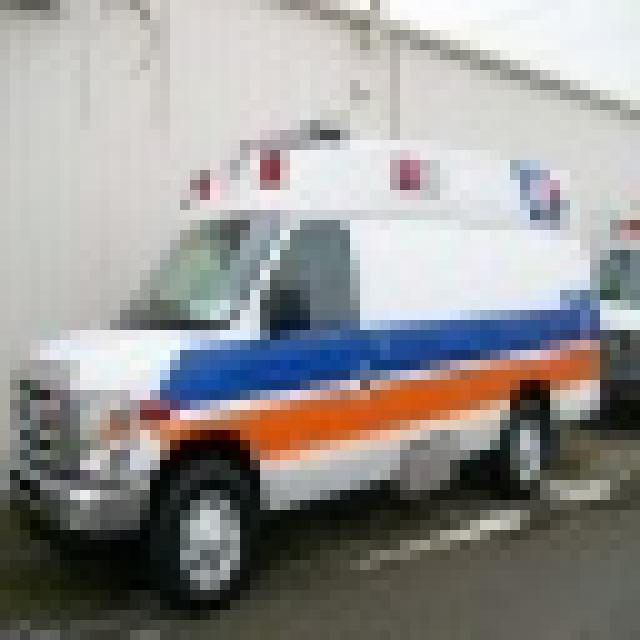Ambulance: (0, 120, 600, 600)
